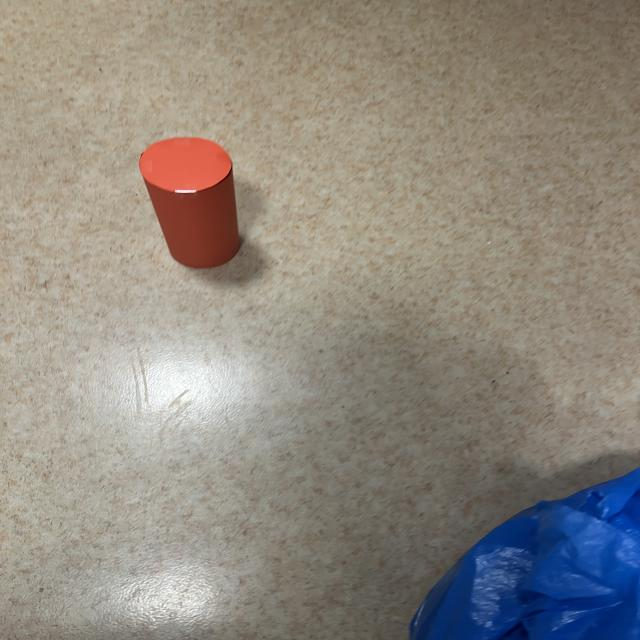przeszkoda: (139, 137, 239, 268)
